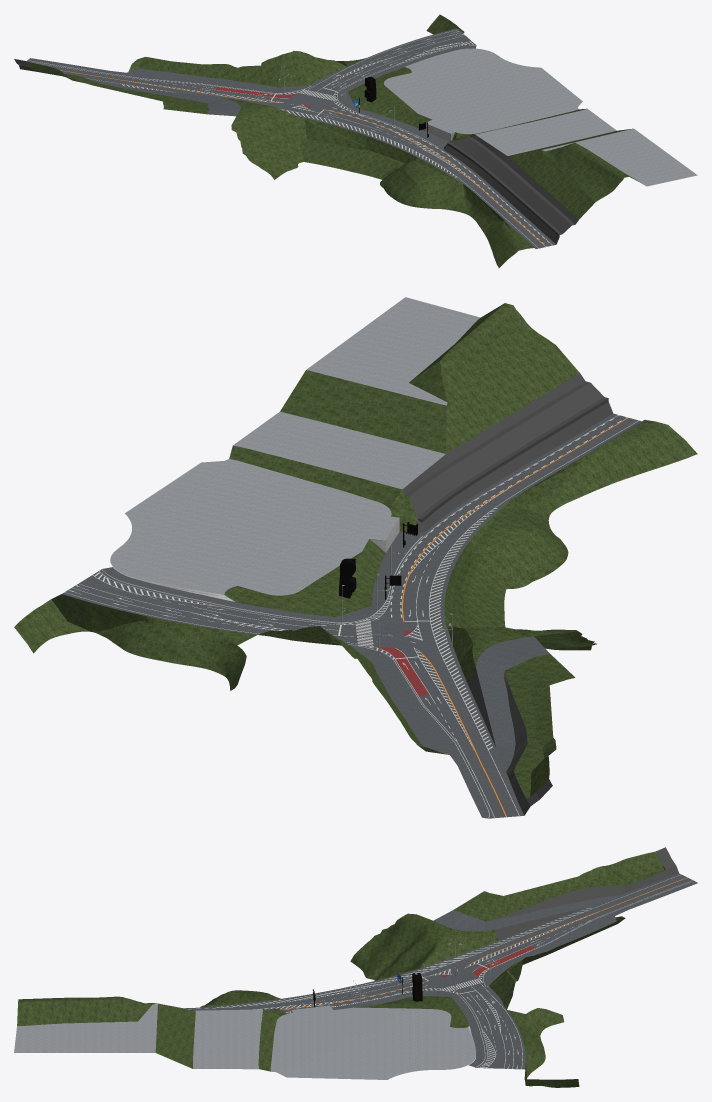
File: keikaku.FBX
3 views of the same model, one above another, from view 1: azimuth 30°, elevation 25°; view 2: azimuth 150°, elevation 25°; view 3: azimuth 270°, elevation 25° (orthographic). The views are drawn at different scales.
Visible parts, largest first — view 1: 000-緑地-001, 000-道の駅-敷地, 001-計画道路, 000-擁壁-001, 009-マーキング-計画-白線(0.001↑), 003-計画歩道-002, 003-計画歩道-001, 003-交差点-計画-アスファルト, 000-脇道, 009-マーキング-計画-黄線(0.001↑); view 2: 000-緑地-001, 000-道の駅-敷地, 001-計画道路, 000-擁壁-001, 009-マーキング-計画-白線(0.001↑), 000-脇道, 003-計画歩道-002, 003-計画歩道-001, 003-交差点-計画-アスファルト; view 3: 000-道の駅-敷地, 000-緑地-001, 001-計画道路, 009-マーキング-計画-白線(0.001↑), 000-擁壁-001, 000-脇道, 003-計画歩道-002, 003-計画歩道-001, 003-交差点-計画-アスファルト, 009-マーキング-計画-黄線(0.001↑).
Part boxes in pixels (left/top/right/bottom): 000-緑地-001: left=26, top=14, right=641, bottom=267; 000-道の駅-敷地: left=384, top=48, right=697, bottom=186; 001-計画道路: left=27, top=28, right=556, bottom=248; 000-擁壁-001: left=14, top=59, right=578, bottom=248; 009-マーキング-計画-白線(0.001↑): left=30, top=30, right=552, bottom=248; 003-計画歩道-002: left=28, top=58, right=310, bottom=92; 003-計画歩道-001: left=337, top=45, right=476, bottom=146; 003-交差点-計画-アスファルト: left=282, top=86, right=339, bottom=113; 000-脇道: left=98, top=82, right=240, bottom=116; 009-マーキング-計画-黄線(0.001↑): left=60, top=70, right=545, bottom=246; 000-緑地-001: left=14, top=303, right=697, bottom=798; 000-道の駅-敷地: left=110, top=297, right=480, bottom=595; 001-計画道路: left=62, top=413, right=641, bottom=818; 000-擁壁-001: left=402, top=373, right=645, bottom=815; 009-マーキング-計画-白線(0.001↑): left=65, top=415, right=638, bottom=817; 000-脇道: left=476, top=636, right=549, bottom=771; 003-計画歩道-002: left=348, top=644, right=488, bottom=818; 003-計画歩道-001: left=102, top=533, right=421, bottom=622; 003-交差点-計画-アスファルト: left=344, top=615, right=424, bottom=653; 000-道の駅-敷地: left=14, top=1003, right=475, bottom=1079; 000-緑地-001: left=17, top=851, right=665, bottom=1087; 001-計画道路: left=185, top=873, right=695, bottom=1069; 009-マーキング-計画-白線(0.001↑): left=188, top=874, right=692, bottom=1068; 000-擁壁-001: left=263, top=847, right=678, bottom=1009; 000-脇道: left=433, top=895, right=619, bottom=931; 003-計画歩道-002: left=483, top=882, right=697, bottom=986; 003-計画歩道-001: left=289, top=990, right=484, bottom=1067; 003-交差点-計画-アスファルト: left=422, top=965, right=485, bottom=992; 009-マーキング-計画-黄線(0.001↑): left=280, top=877, right=687, bottom=1009.
Size of the model in its own units: 185 by 28 by 247.
